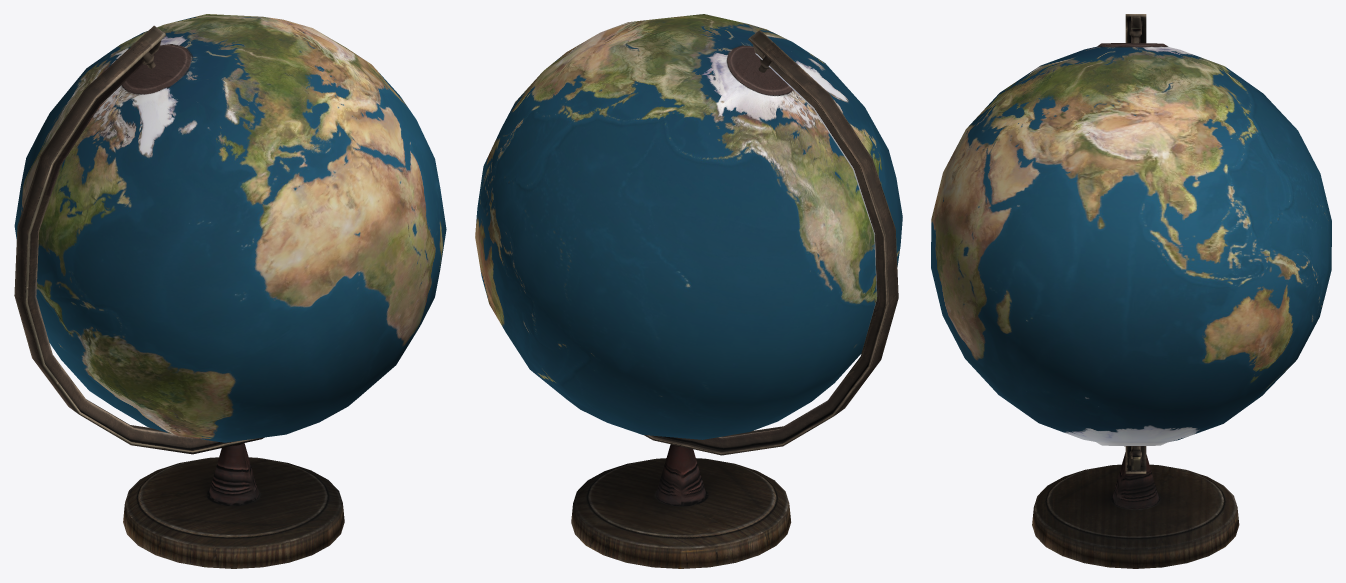
Rendered from SCH0110010.fbx.
3 views of the same model, side by side, from view 1: azimuth 30°, elevation 25°; view 2: azimuth 150°, elevation 25°; view 3: azimuth 270°, elevation 25° (orthographic). The views are drawn at different scales.
Visible parts, largest first — view 1: smSCH0110010; view 2: smSCH0110010; view 3: smSCH0110010.
Boxes of the visible parts, box(x1,y1,x2,y2) form: smSCH0110010: box(14, 14, 446, 568); smSCH0110010: box(475, 14, 902, 568); smSCH0110010: box(931, 14, 1331, 568).
Bounding box in the file's own units: 28.25 × 34.96 × 26.61.
1 material, 1 textured.
